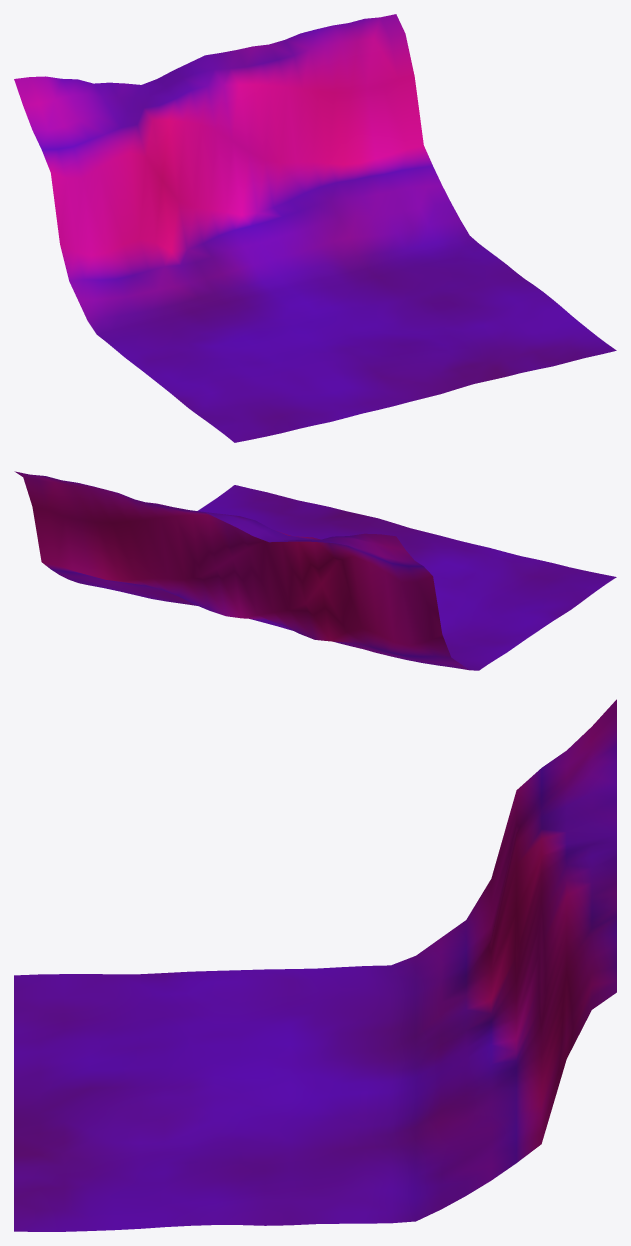
File: ground_04.glb
The picture shows the model from 3 angles, top to bottom: view 1: azimuth 30°, elevation 25°; view 2: azimuth 150°, elevation 25°; view 3: azimuth 270°, elevation 25°; orthographic projection. The views are drawn at different scales.
Visible parts, largest first — view 1: Ground_04; view 2: Ground_04; view 3: Ground_04.
Boxes of the visible parts, box(x1,y1,x2,y2) form: Ground_04: box(14, 14, 616, 442); Ground_04: box(14, 471, 616, 670); Ground_04: box(14, 699, 616, 1231).
Size of what is drawn, in the model's own units: 24 by 12.29 by 24.
